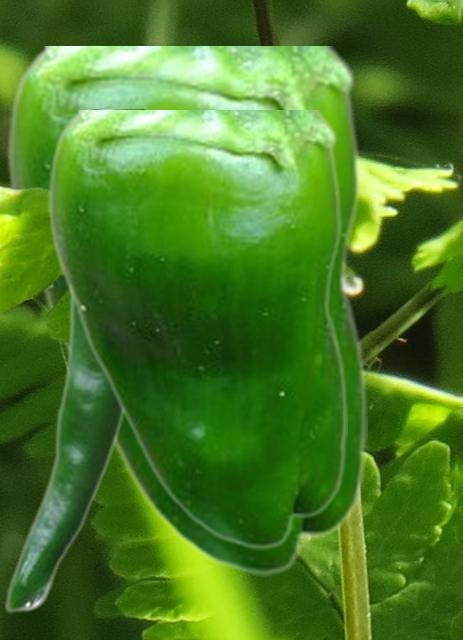green_chili: (5, 46, 366, 575), (46, 110, 346, 549), (3, 109, 153, 612)
